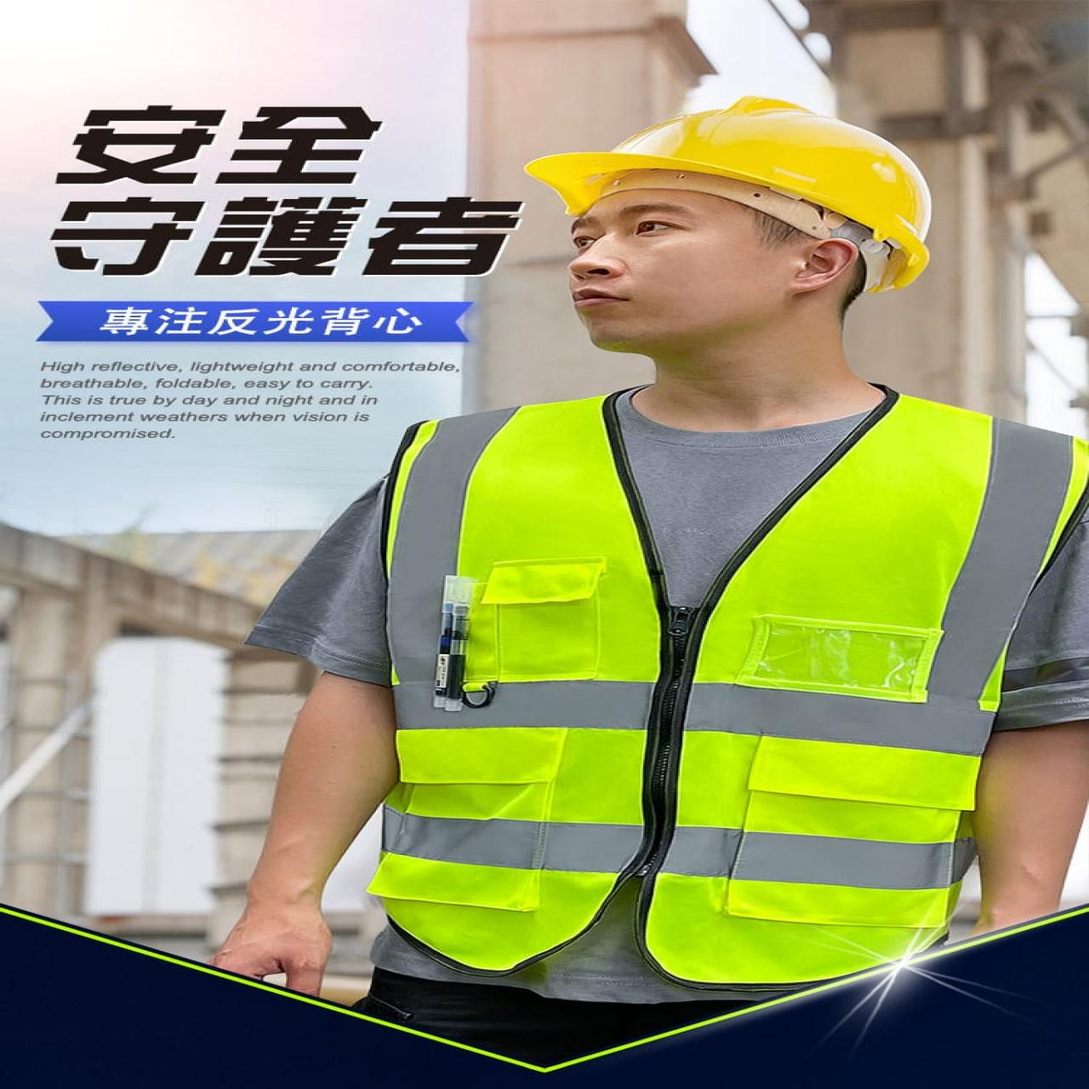Person: (247, 67, 1089, 1089)
Safety_Vest: (319, 383, 1089, 968)
